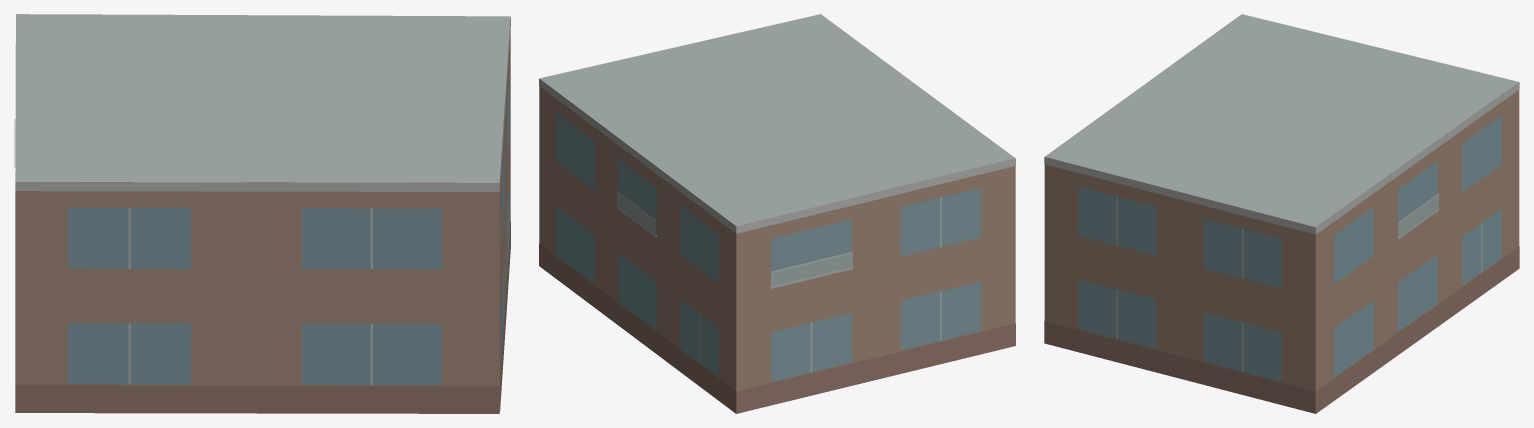
The model's file is survey-upis-32930757.glb.
3 renders of one model, left to right at view 1: azimuth 30°, elevation 25°; view 2: azimuth 150°, elevation 25°; view 3: azimuth 270°, elevation 25°, orthographic. The views are drawn at different scales.
Parts seen in each view (by area): view 1: survey-upis-32930757.tmp; view 2: survey-upis-32930757.tmp; view 3: survey-upis-32930757.tmp.
Part boxes in pixels (x1,y1,x2,y2): survey-upis-32930757.tmp: (14, 14, 510, 413); survey-upis-32930757.tmp: (539, 14, 1015, 413); survey-upis-32930757.tmp: (1044, 14, 1519, 413).
Bounding box in the file's own units: 14.96 × 6.1 × 14.08.
